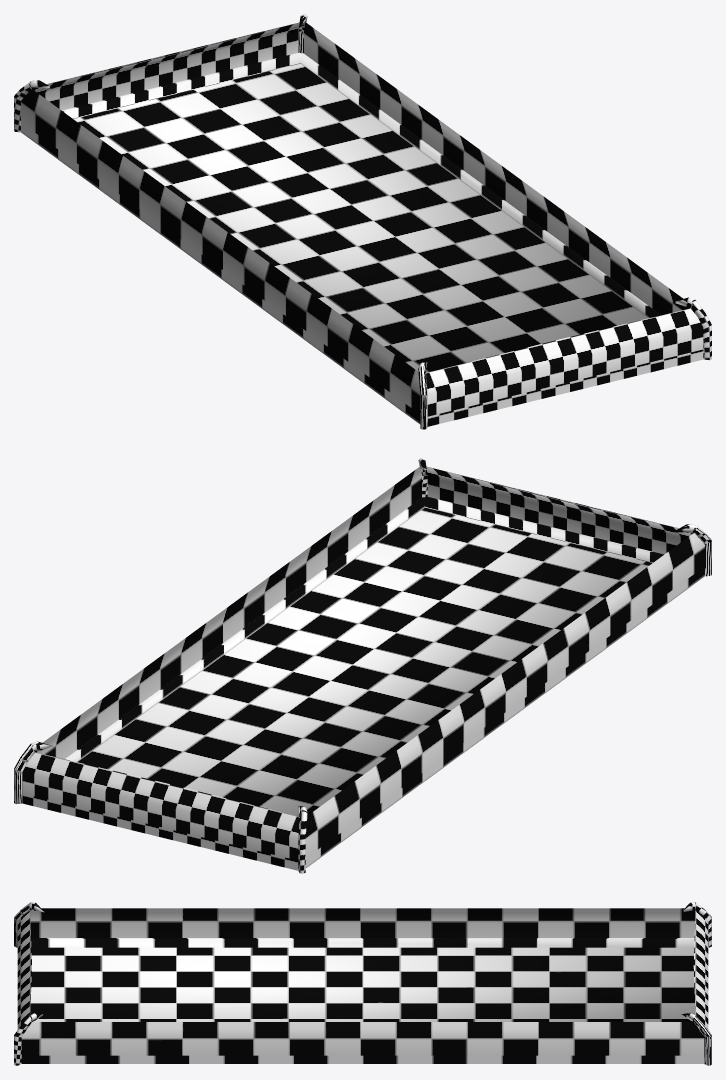
Rendered from Escenario 00.obj.
3 renders of one model, top to bottom at view 1: azimuth 30°, elevation 25°; view 2: azimuth 150°, elevation 25°; view 3: azimuth 270°, elevation 25°, orthographic. The views are drawn at different scales.
Parts seen in each view (by area): view 1: Plane; view 2: Plane; view 3: Plane.
Part boxes in pixels (box(x1,y1,x2,y2)): Plane: box(14, 14, 711, 429); Plane: box(14, 458, 711, 873); Plane: box(14, 902, 711, 1065).
Size of what is drawn, in the model's own units: 61.9 by 11.34 by 151.
1 material, 1 textured.
